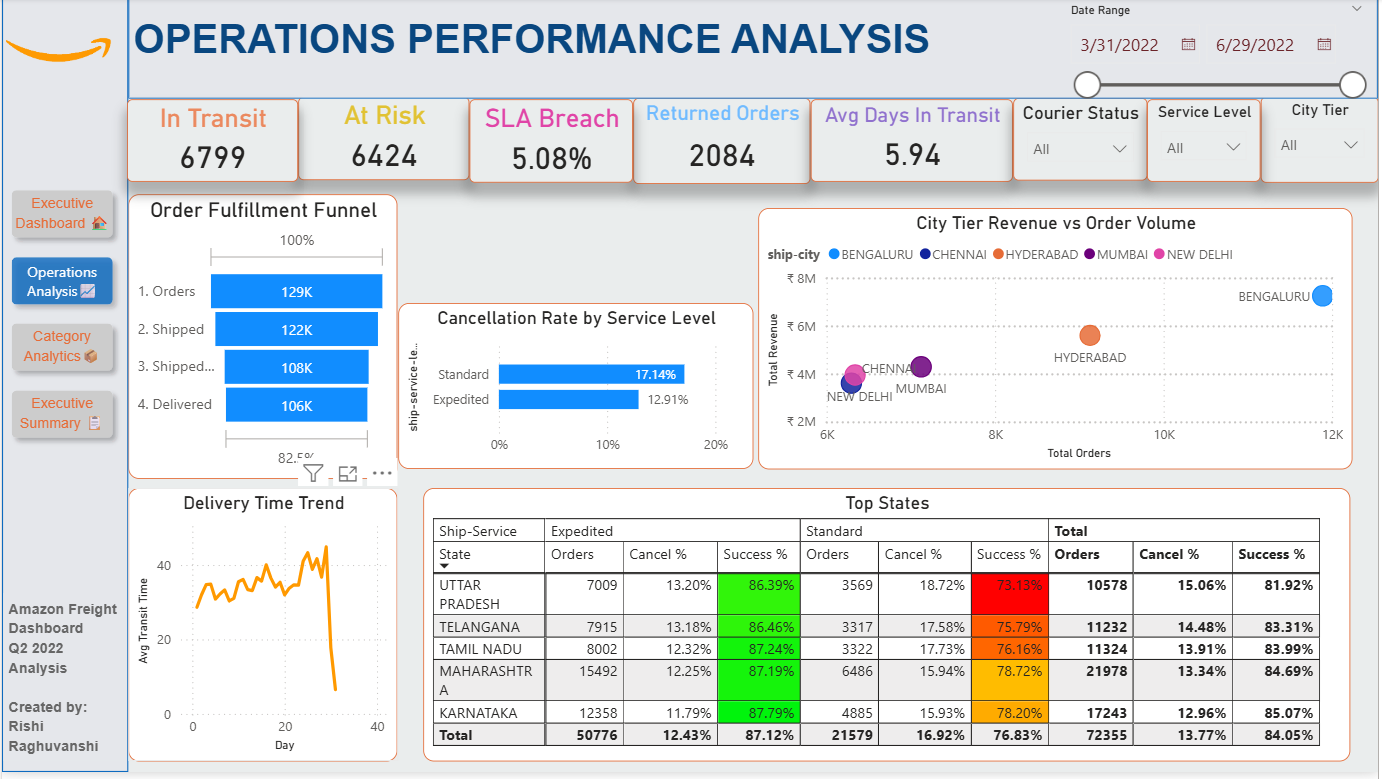

Layout of this report page (visuals, bound fields, positions):
{"tool":"powerbi","page":{"name":"Operations Analysis📈","canvas":[1280,720],"ordinal":1},"visuals":[{"type":"card","title":"At Risk","fields":{"Values":["amazon_enriched.At Risk"]},"box":[275.6,91.9,159.3,77.9],"z":0},{"type":"card","title":"Returned Orders","fields":{"Values":["amazon_enriched.Returned Orders"]},"box":[587.2,93,165.1,80.2],"z":1000},{"type":"card","title":"SLA Breach","fields":{"Values":["amazon_enriched.SLA Breach %"]},"box":[434.9,94.2,152.3,77.9],"z":2000},{"type":"card","title":"Avg Days In Transit","fields":{"Values":["amazon_enriched.Avg DaysIn Transit"]},"box":[752.3,94.2,188.4,76.7],"z":3000},{"type":"funnel","title":"Order Fulfillment Funnel","fields":{"Y":["amazon_enriched.Stage 1 Orders","amazon_enriched.Stage 2 Shipped","amazon_enriched.Stage 3 In Transit","amazon_enriched.Stage 4 Delivered"]},"box":[117.6,182.4,250.6,264.7],"z":4000},{"type":"clusteredBarChart","title":"Cancellation Rate by Service Level","fields":{"Y":["amazon_enriched.Cancellation Rate"],"Category":["amazon_enriched.ship-service-level"]},"box":[368.2,283.5,330.6,154.1],"z":5000},{"type":"pivotTable","title":"Top States","fields":{"Rows":["amazon_enriched.ship-state"],"Columns":["amazon_enriched.ship-service-level"],"Values":["amazon_enriched.Total Orders","amazon_enriched.Cancellation Rate","amazon_enriched.Success Rate"]},"box":[391.8,455.3,862.4,254.1],"z":6000},{"type":"scatterChart","title":"City Tier Revenue vs Order Volume","fields":{"X":["amazon_enriched.Total Orders"],"Y":["amazon_enriched.Total Revenue"],"Series":["amazon_enriched.ship-city"],"Size":["amazon_enriched.Success Rate"]},"box":[703.9,194.9,553,242.9],"z":7000},{"type":"slicer","title":"City Tier","fields":{"Values":["amazon_enriched.city_tier"]},"box":[1170.9,91.9,109.3,80.2],"z":8000},{"type":"slicer","title":"Courier Status","fields":{"Values":["amazon_enriched.Courier Status"]},"box":[940.7,93,124.4,76.7],"z":9000},{"type":"slicer","title":"Service Level","fields":{"Values":["amazon_enriched.ship-service-level"]},"box":[1065.1,94.2,105.8,76.7],"z":10000},{"type":"shape","box":[0,0,117.5,720],"z":11000},{"type":"shape","box":[117.5,0,1162.5,93.8],"z":12000},{"type":"textbox","box":[117.6,11.8,758.8,69.4],"z":13000},{"type":"slicer","title":"Date","fields":{"Values":["amazon_enriched.Date"]},"box":[981.2,0,296.5,96.5],"z":14000},{"type":"image","box":[0,0,116.5,94.1],"z":15000},{"type":"pageNavigator","box":[0,169.8,112.8,250],"z":16000},{"type":"card","title":"In Transit","fields":{"Values":["amazon_enriched.In Transit"]},"box":[116.3,94.2,159.3,76.7],"z":17000},{"type":"lineChart","title":"Delivery Time Trend","fields":{"Y":["amazon_enriched.Avg Transit Time"],"Category":["amazon_enriched.Date.Variation.Date Hierarchy.Day"]},"box":[117.6,455.3,250.6,254.1],"z":18000},{"type":"textbox","box":[1.2,553.5,112.9,156.1],"z":19000}]}

Visuals, with their boxes in screenshot pixels (x1, y1, x2, y2), scaled from the page's 1280x720 canvas onto the 1382x779 screenshot:
"At Risk" card: x1=298, y1=99, x2=470, y2=184
"Returned Orders" card: x1=634, y1=101, x2=812, y2=187
"SLA Breach" card: x1=470, y1=102, x2=634, y2=186
"Avg Days In Transit" card: x1=812, y1=102, x2=1016, y2=185
"Order Fulfillment Funnel" funnel: x1=127, y1=197, x2=398, y2=484
"Cancellation Rate by Service Level" clusteredBarChart: x1=398, y1=307, x2=754, y2=473
"Top States" pivotTable: x1=423, y1=493, x2=1354, y2=768
"City Tier Revenue vs Order Volume" scatterChart: x1=760, y1=211, x2=1357, y2=474
"City Tier" slicer: x1=1264, y1=99, x2=1381, y2=186
"Courier Status" slicer: x1=1016, y1=101, x2=1150, y2=184
"Service Level" slicer: x1=1150, y1=102, x2=1264, y2=185
shape: x1=0, y1=0, x2=127, y2=778
shape: x1=127, y1=0, x2=1381, y2=101
textbox: x1=127, y1=13, x2=946, y2=88
"Date" slicer: x1=1059, y1=0, x2=1380, y2=104
image: x1=0, y1=0, x2=126, y2=102
pageNavigator: x1=0, y1=184, x2=122, y2=454
"In Transit" card: x1=126, y1=102, x2=298, y2=185
"Delivery Time Trend" lineChart: x1=127, y1=493, x2=398, y2=768
textbox: x1=1, y1=599, x2=123, y2=768
